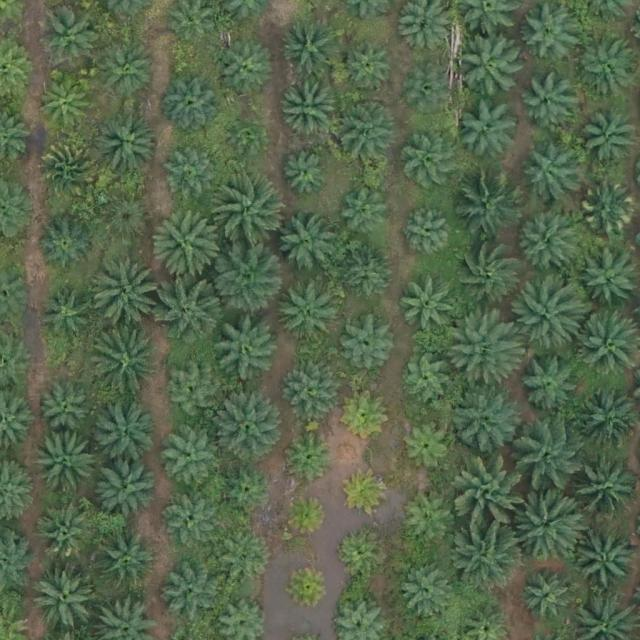Healthy: (212, 314, 283, 385), (156, 274, 227, 345), (87, 331, 158, 402), (454, 34, 525, 105), (569, 457, 639, 528), (516, 284, 586, 355), (457, 462, 527, 533), (449, 311, 519, 382), (452, 240, 522, 311), (454, 174, 524, 245), (216, 177, 286, 248), (212, 245, 282, 316), (213, 391, 283, 462), (154, 209, 224, 280), (90, 260, 160, 331), (517, 423, 587, 493), (514, 489, 584, 559), (454, 522, 524, 592), (449, 383, 519, 453), (162, 74, 225, 137), (95, 529, 158, 592), (162, 561, 225, 624), (280, 17, 343, 80), (576, 529, 638, 592), (577, 390, 639, 453), (517, 349, 579, 412), (462, 99, 524, 162), (399, 277, 461, 340), (333, 99, 395, 162), (279, 79, 342, 141), (275, 214, 338, 276), (276, 279, 338, 342), (95, 110, 157, 173), (93, 404, 155, 467), (96, 456, 158, 519), (34, 564, 96, 627), (35, 434, 97, 497), (38, 3, 100, 66), (95, 38, 157, 101), (577, 36, 639, 99), (514, 213, 576, 275), (400, 205, 455, 261), (219, 463, 274, 518), (219, 537, 274, 592), (580, 112, 635, 167), (520, 74, 575, 129), (521, 147, 576, 202), (521, 571, 576, 626), (405, 137, 460, 192), (340, 248, 395, 303), (339, 183, 394, 238), (96, 193, 151, 248), (37, 284, 92, 339), (398, 418, 453, 473), (401, 495, 456, 550), (400, 563, 455, 618), (284, 361, 339, 416), (338, 318, 393, 373), (163, 436, 218, 491), (164, 493, 219, 548), (164, 150, 219, 205), (37, 78, 92, 133), (40, 218, 95, 273), (40, 378, 95, 433), (342, 40, 397, 95), (400, 354, 454, 409), (167, 366, 221, 421), (37, 507, 91, 562), (222, 45, 276, 100)
Small: (282, 151, 329, 199), (335, 529, 382, 577), (288, 433, 335, 480), (407, 68, 454, 115), (227, 116, 266, 155)
Yellow: (40, 139, 103, 202), (581, 184, 635, 239), (286, 562, 333, 610), (344, 469, 391, 517), (283, 494, 330, 541), (344, 393, 391, 440)
